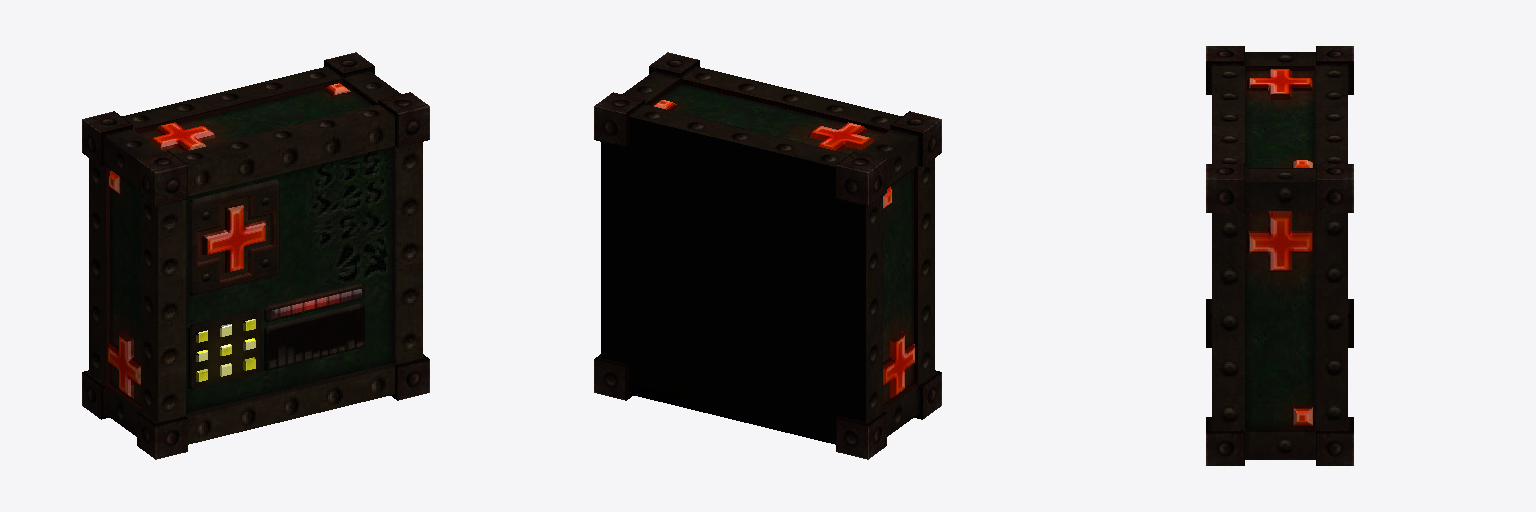
The picture shows the model from 3 angles: view 1: azimuth 30°, elevation 25°; view 2: azimuth 150°, elevation 25°; view 3: azimuth 270°, elevation 25°; orthographic projection.
Size of the model in its own units: 36.11 by 36.11 by 16.81.
1 materials, 1 textured.